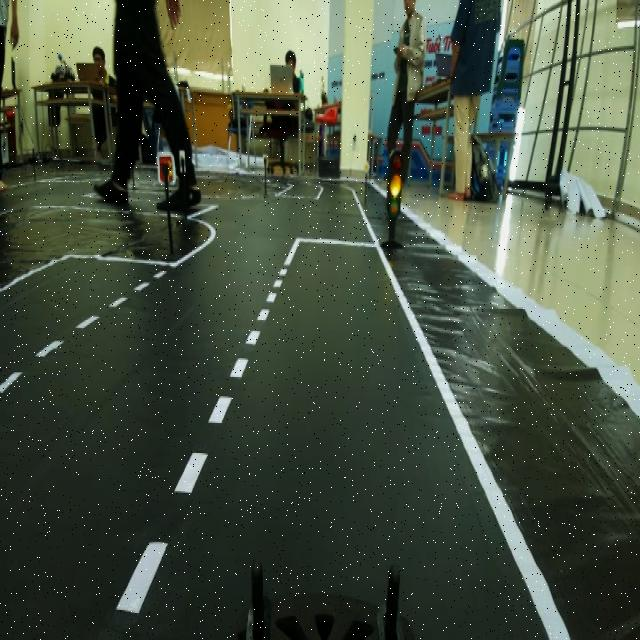trafficlight: (373, 146, 408, 261)
